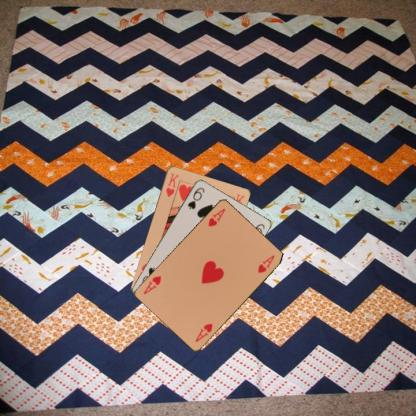6s: (185, 184, 206, 210)
Ah: (192, 321, 214, 343), (206, 206, 226, 228)
Kh: (163, 170, 180, 198)
